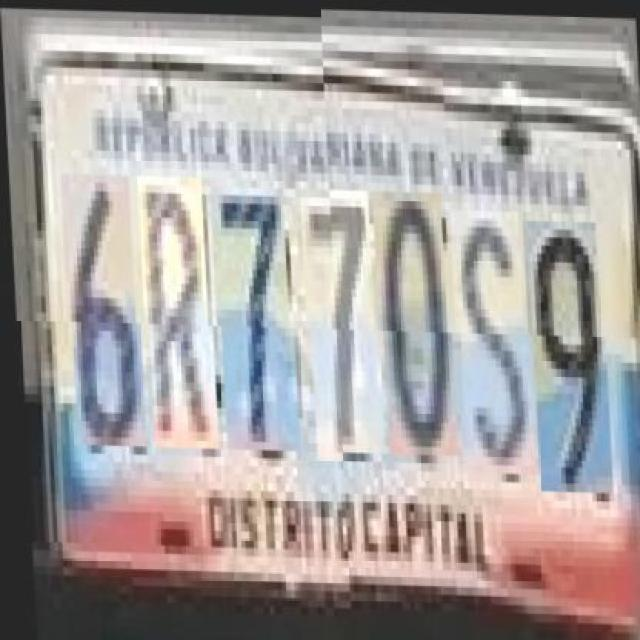6: (62, 172, 142, 446)
7: (212, 186, 296, 449), (302, 195, 382, 460)
9: (524, 224, 608, 498)
o: (375, 197, 453, 461)
r: (139, 175, 215, 448)
s: (452, 215, 532, 480)
